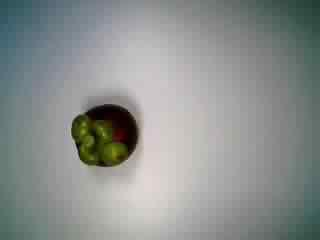mangosteen: (63, 101, 141, 176)
